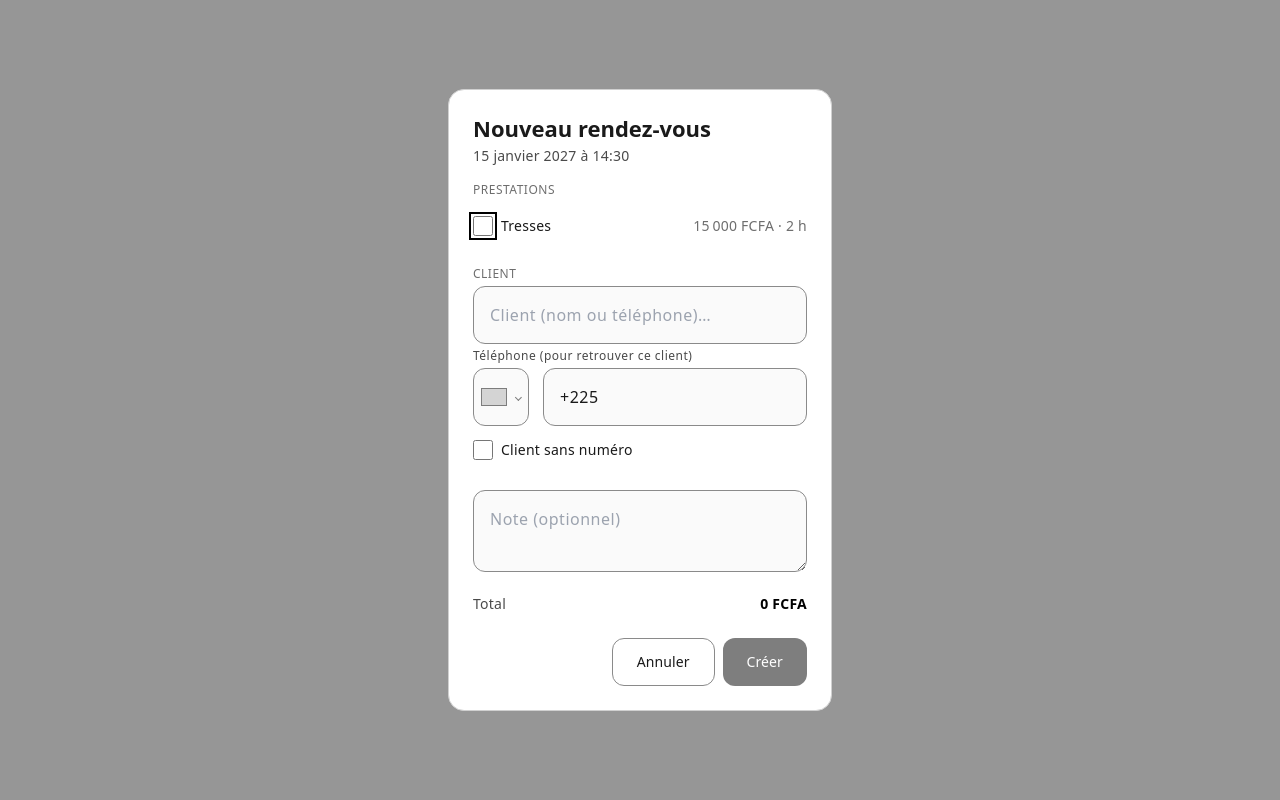
Test case: ManualBookingDialog — the walk-in, like the app › a name and no number, box not ticked: the field says so, nothing is sent
Type "Awa" into the field named "Rechercher ou nommer le client". click: coordinates (640, 315)
box: [473,286,807,344]
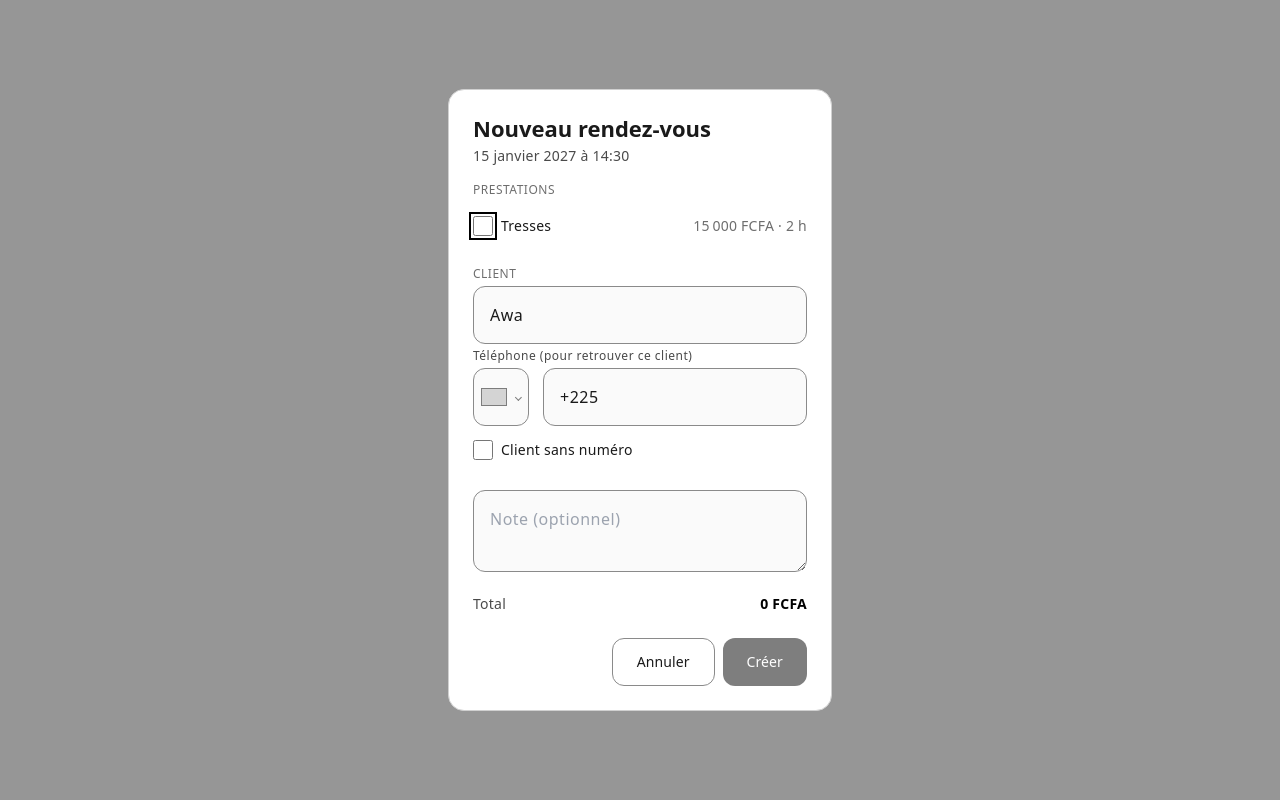
Click the checkbox labelled "Tresses 15 000 FCFA · 2 h". click: coordinates (483, 226)
box: [473,216,493,236]
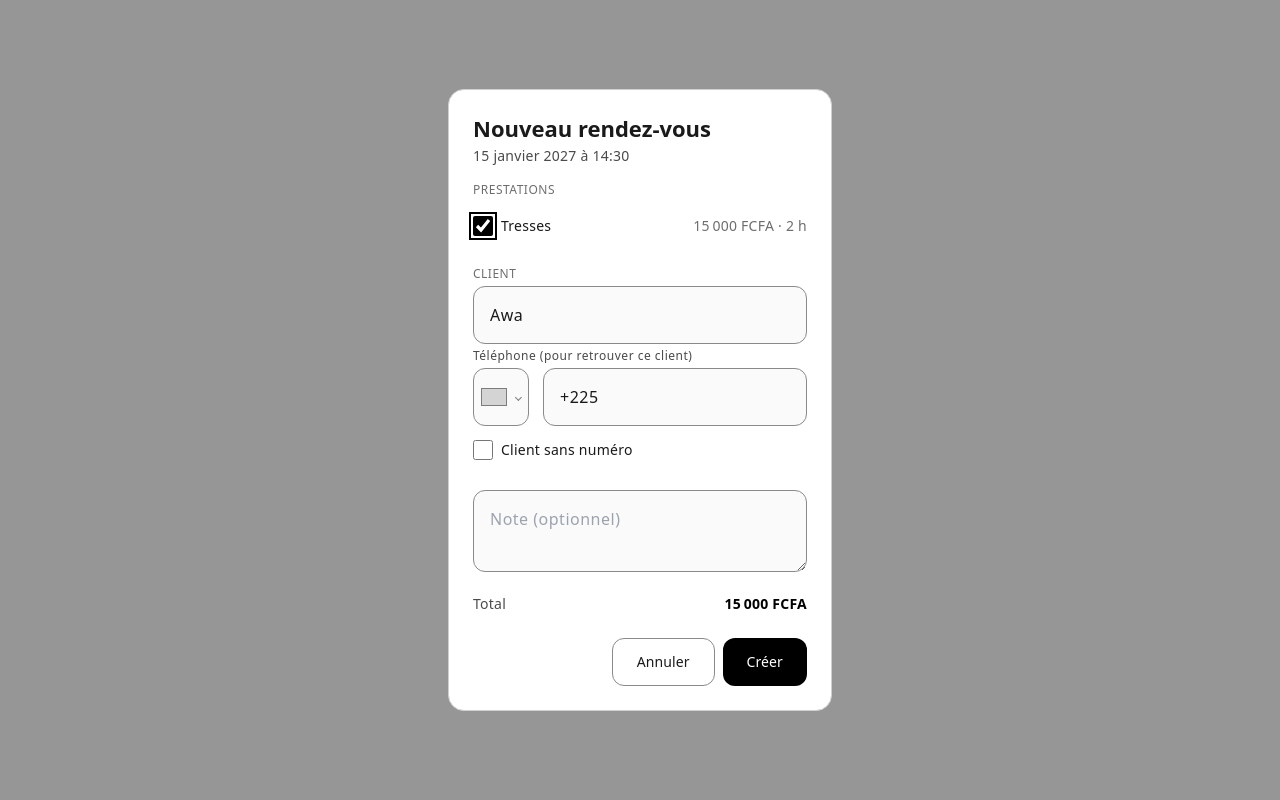
Click the button "Créer". click: coordinates (765, 662)
box: [723,638,807,686]
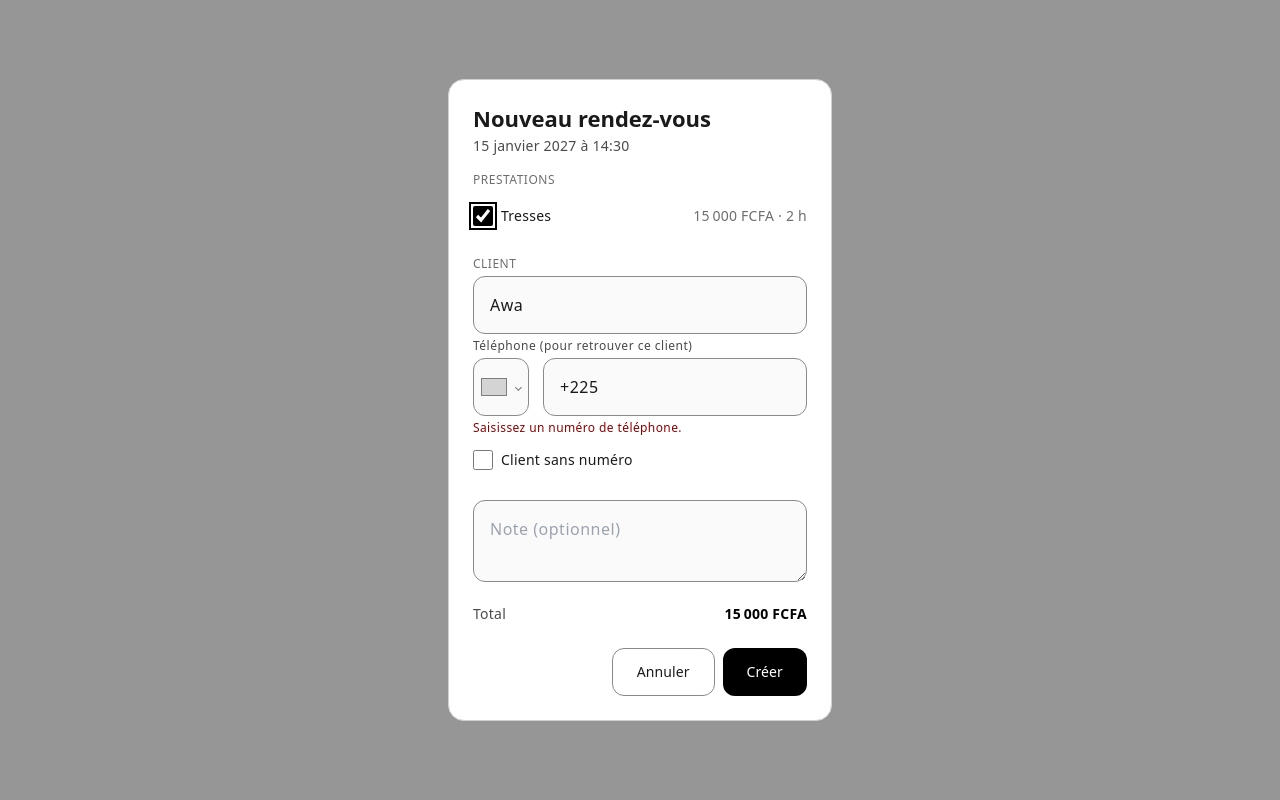
Now the text "Saisissez un numéro de téléphone." is shown, box [473,419,682,436]
